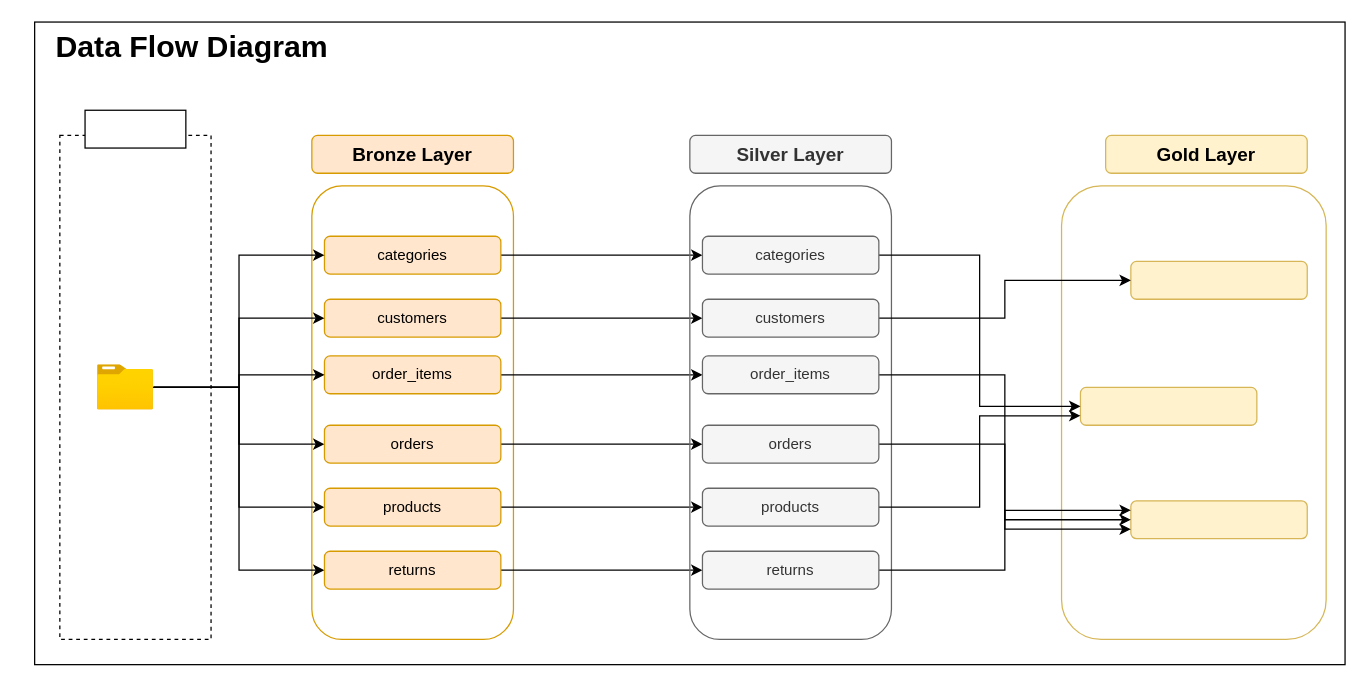
Some shapes in this 1367 by 687 pixel diagram are drawn without their labels. Here are the shapes that lost their labels. From the top down, the centre of each, then its label:
At [135,128]: "Source".
At [1218,279]: "dim_customers".
At [1168,405]: "dim_products".
At [1218,519]: "fact_sales".
